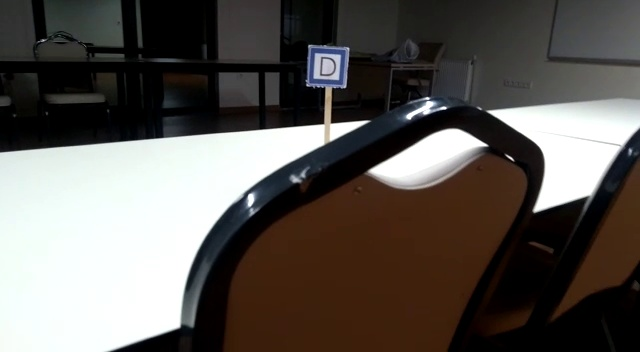durak: (306, 48, 347, 87)
